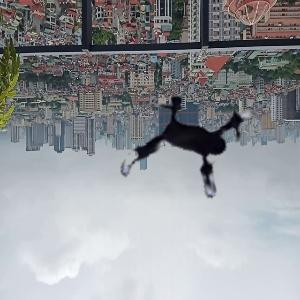drone: (110, 69, 279, 238)
